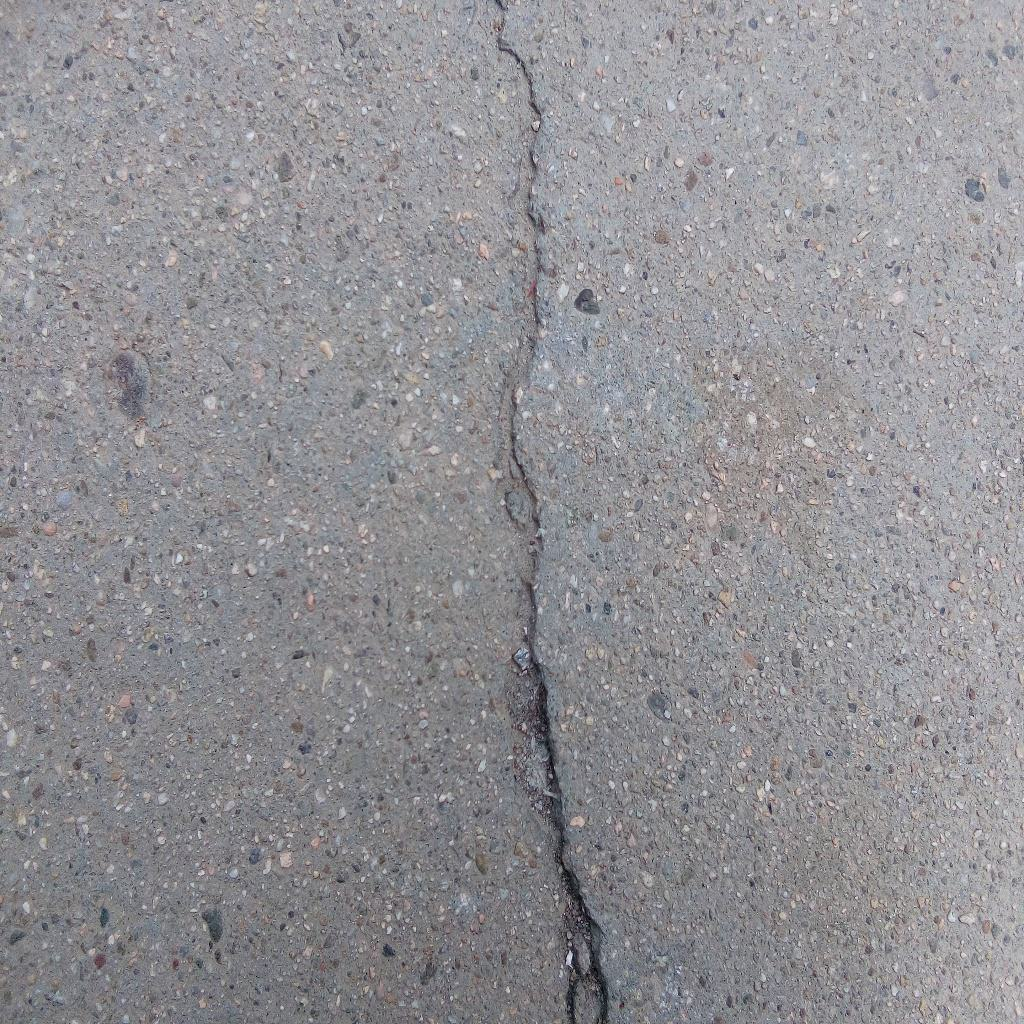Crack: (494, 1, 609, 1024)
